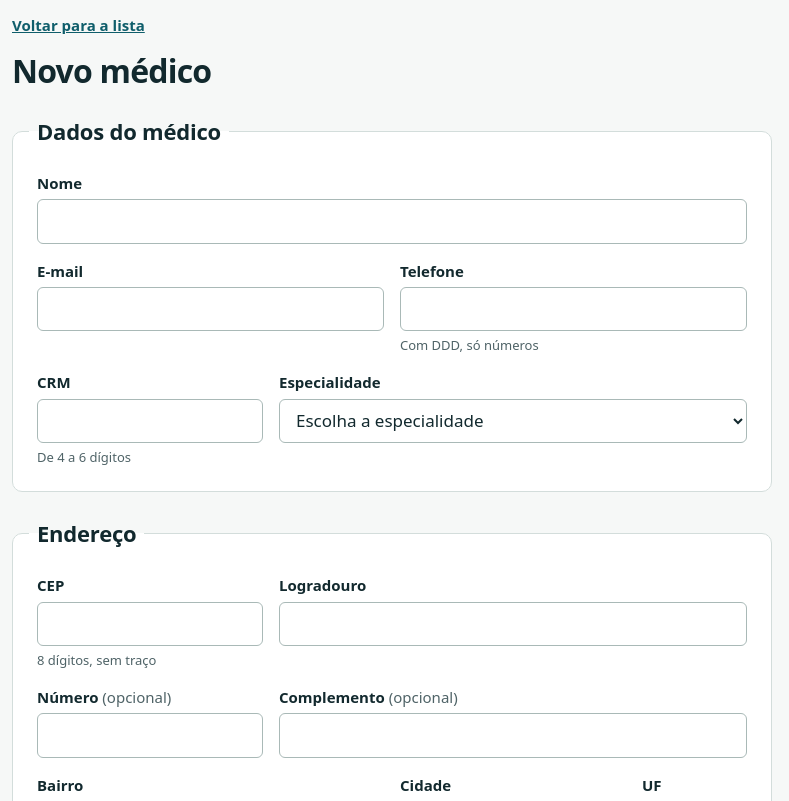
FormularioMedico (cadastro) › deveGuardarSoDigitosQuandoDigitarCepOuCrmComPontuacao
Click the field labelled "CEP" at [150, 624], box x1=37 y1=602 x2=263 y2=646
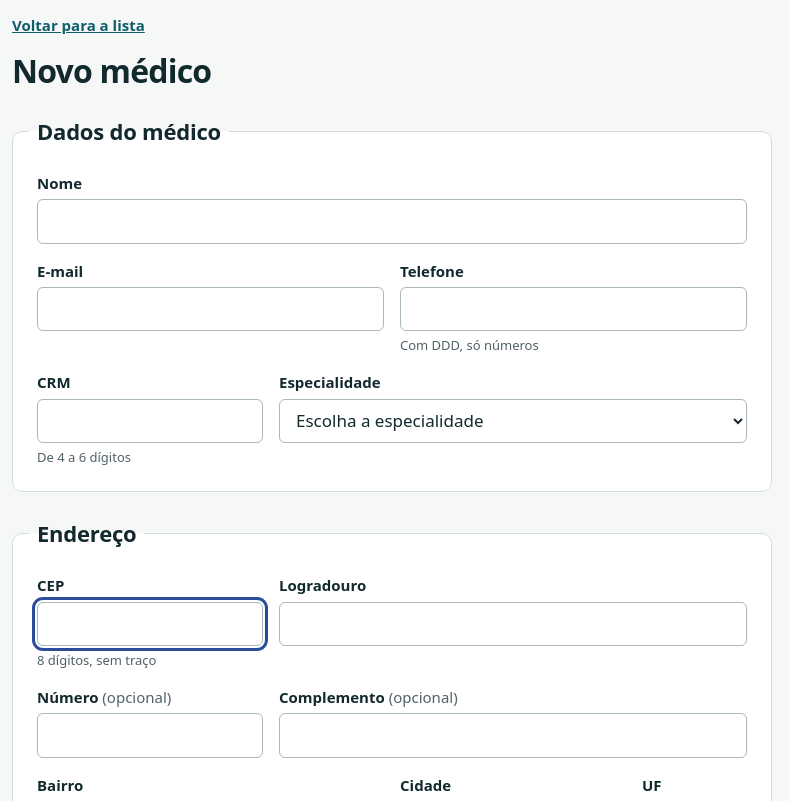
Type keys "87020-000"
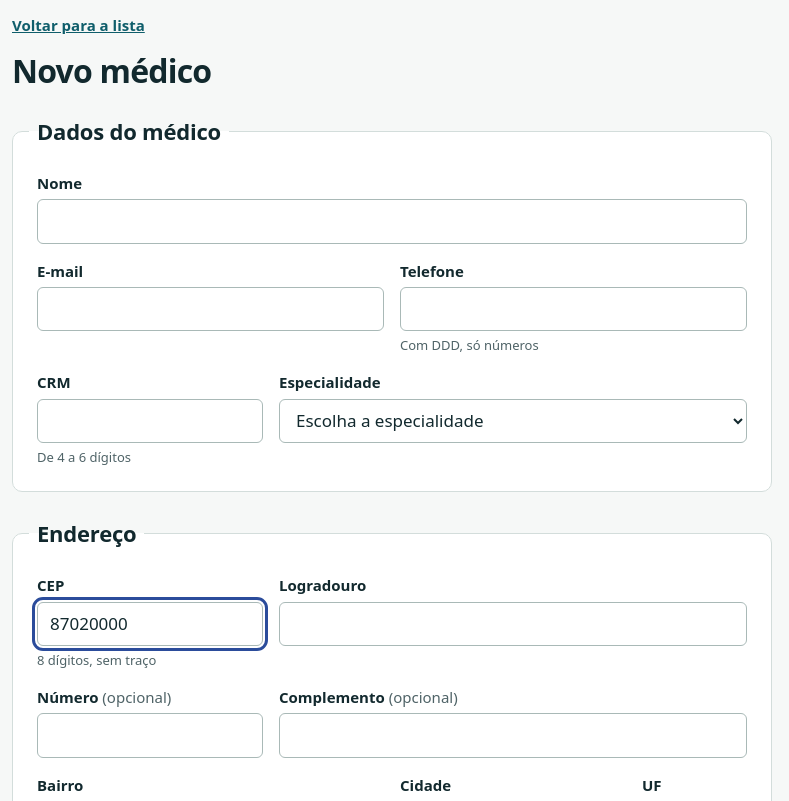
Type "12.345" into the field labelled "CRM" at [150, 421], box x1=37 y1=399 x2=263 y2=443
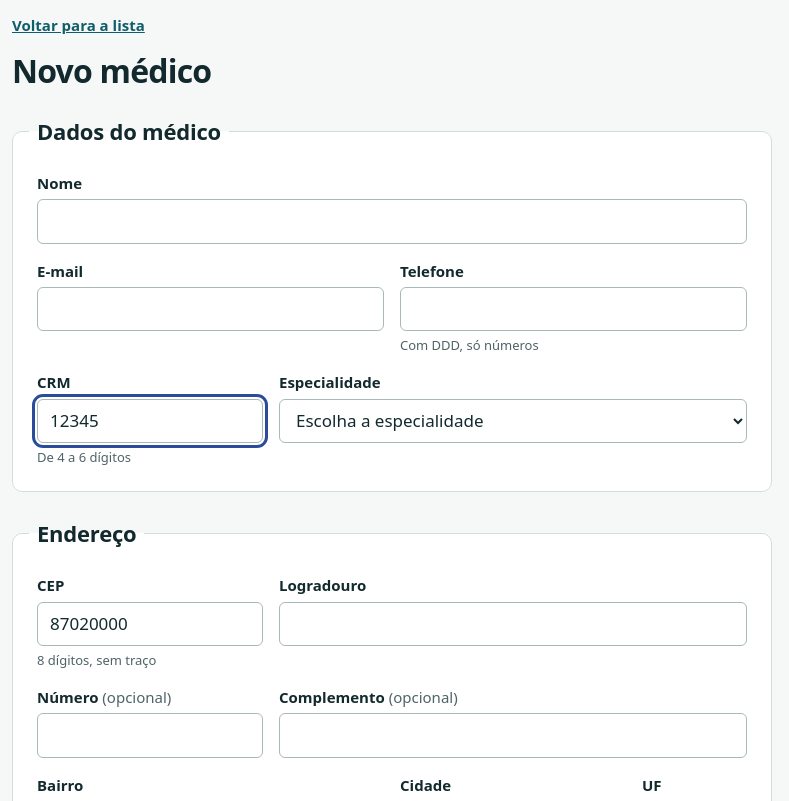
Expected: the field labelled "CEP" holds "87020000", x1=37 y1=602 x2=263 y2=646
Expected: the field labelled "CRM" holds "12345", x1=37 y1=399 x2=263 y2=443
